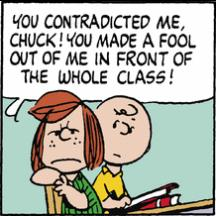charlie: (89, 94, 155, 212)
